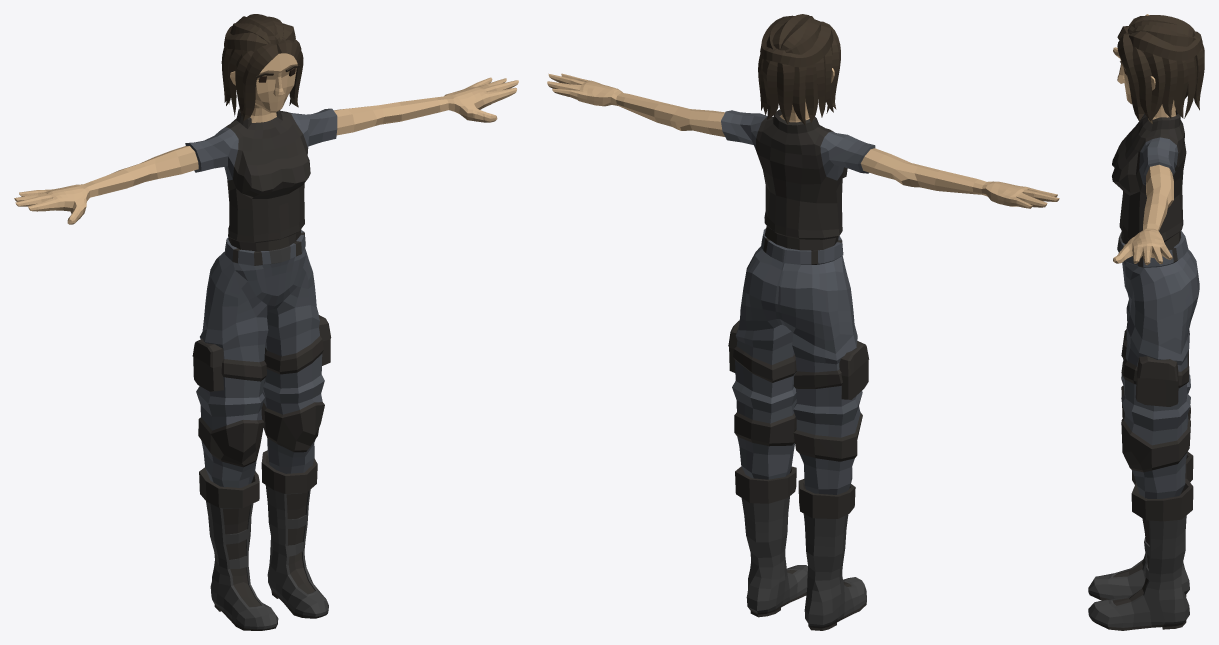
File: SoldierGirl.fbx
3 renders of one model, left to right at view 1: azimuth 30°, elevation 25°; view 2: azimuth 150°, elevation 25°; view 3: azimuth 270°, elevation 25°, orthographic.
Visible parts, largest first — view 1: Soldier_Legs, Soldier_Body, Soldier_Feet, Soldier_Head; view 2: Soldier_Legs, Soldier_Body, Soldier_Feet, Soldier_Head; view 3: Soldier_Legs, Soldier_Feet, Soldier_Body, Soldier_Head.
Part boxes in pixels (x1,y1,x2,y2): Soldier_Legs: (192, 230, 331, 487); Soldier_Body: (14, 77, 518, 251); Soldier_Feet: (199, 450, 328, 630); Soldier_Head: (221, 14, 303, 120); Soldier_Legs: (728, 228, 869, 494); Soldier_Body: (547, 73, 1059, 250); Soldier_Feet: (735, 466, 866, 630); Soldier_Head: (758, 14, 840, 125); Soldier_Legs: (1117, 230, 1199, 498); Soldier_Feet: (1088, 452, 1193, 630); Soldier_Body: (1112, 14, 1186, 265); Soldier_Head: (1117, 15, 1204, 121).
Bounding box in the file's own units: 165 × 183 × 32.7.
